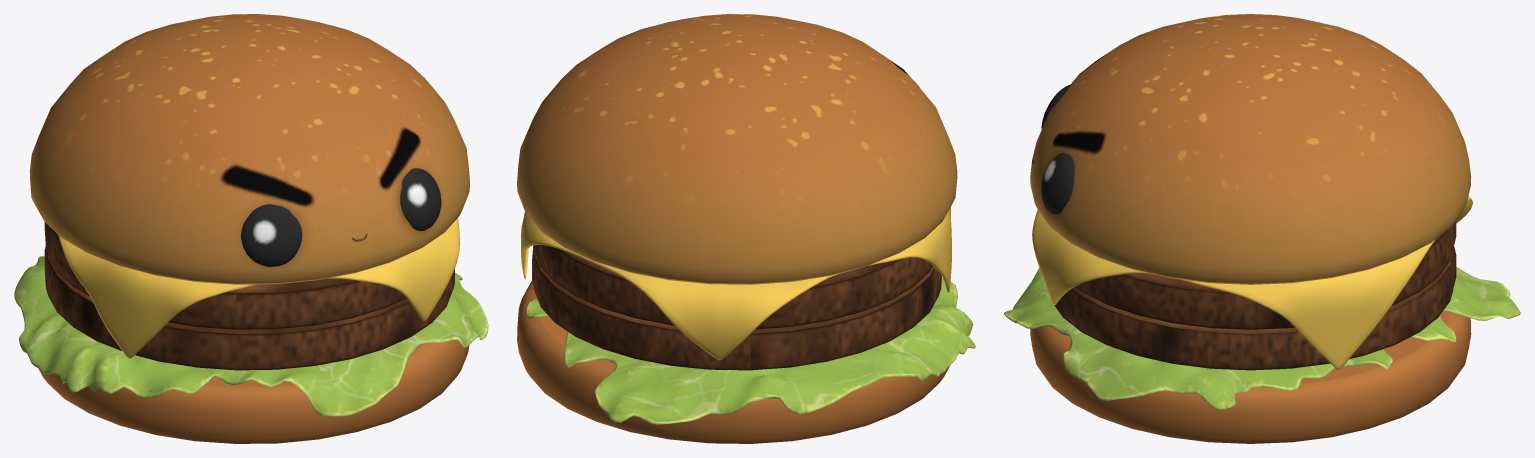
File: burger-transformed.glb
3 views of the same model, side by side, from view 1: azimuth 30°, elevation 25°; view 2: azimuth 150°, elevation 25°; view 3: azimuth 270°, elevation 25° (orthographic).
Parts seen in each view (by area): view 1: Burger_011_01 - Default_0; view 2: Burger_011_01 - Default_0; view 3: Burger_011_01 - Default_0.
Part boxes in pixels (box(x1,y1,x2,y2)): Burger_011_01 - Default_0: box(14, 14, 488, 443); Burger_011_01 - Default_0: box(517, 14, 975, 443); Burger_011_01 - Default_0: box(1004, 14, 1520, 443).
Bounding box in the file's own units: 1.07 × 0.7832 × 1.18.
Materials: 1 (1 with a texture image).
